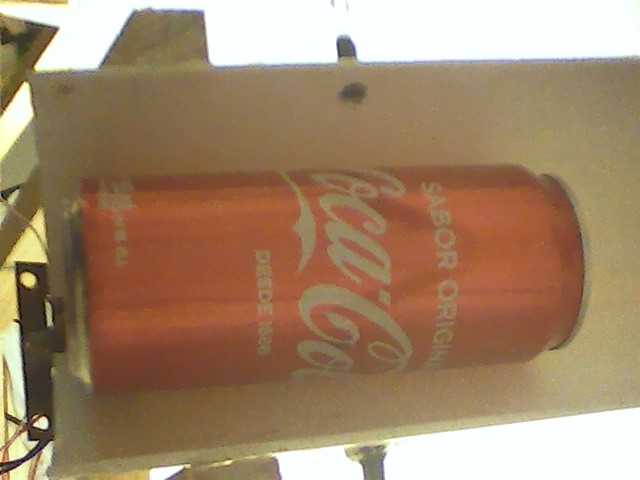lata: (61, 156, 597, 406)
